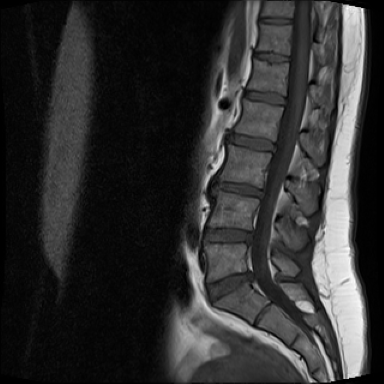Degenerative Disc Disease (DDD): (250, 48, 294, 69), (255, 14, 295, 28)
Lumbar Disc Bulge (LDB): (199, 261, 267, 310), (198, 217, 264, 252), (204, 171, 273, 202)
Normal IVD: (220, 125, 280, 157), (236, 83, 290, 112)
Spinal Stenosis (SS): (236, 259, 261, 295), (236, 222, 262, 252)
